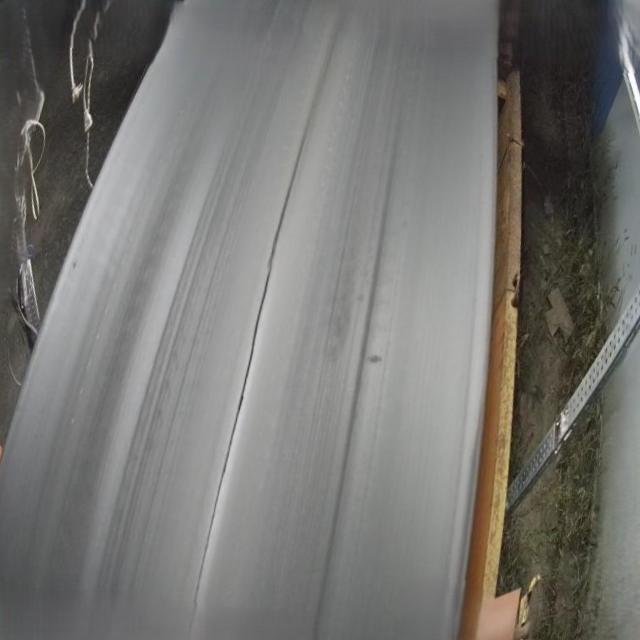Tear: (180, 0, 354, 640)
